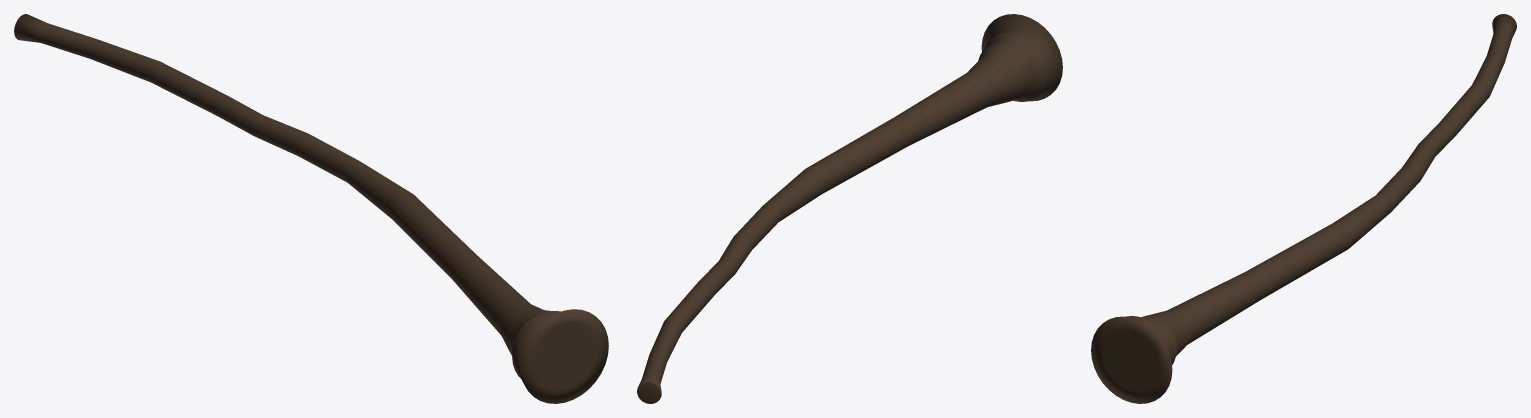
Rendered from log.fbx.
3 renders of one model, left to right at view 1: azimuth 30°, elevation 25°; view 2: azimuth 150°, elevation 25°; view 3: azimuth 330°, elevation 25°, orthographic. The views are drawn at different scales.
Parts seen in each view (by area): view 1: Circle; view 2: Circle; view 3: Circle.
Boxes of the visible parts, left/top/right/bottom form: Circle: left=14, top=14, right=608, bottom=403; Circle: left=637, top=14, right=1062, bottom=403; Circle: left=1091, top=14, right=1516, bottom=403.
Size of the model in its own units: 0.7525 by 4.91 by 0.5264.
